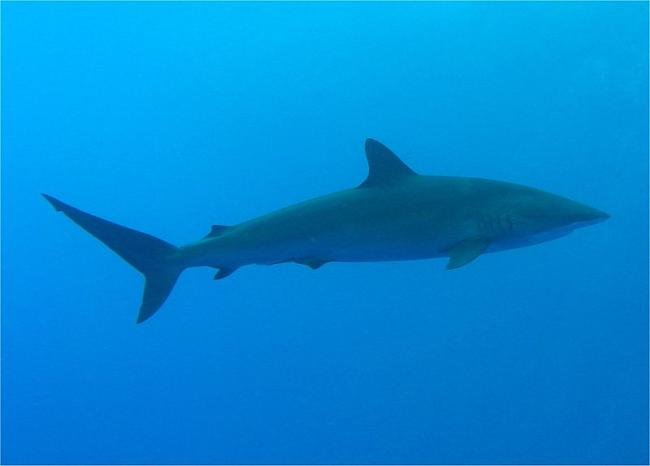fish: (40, 138, 615, 325)
